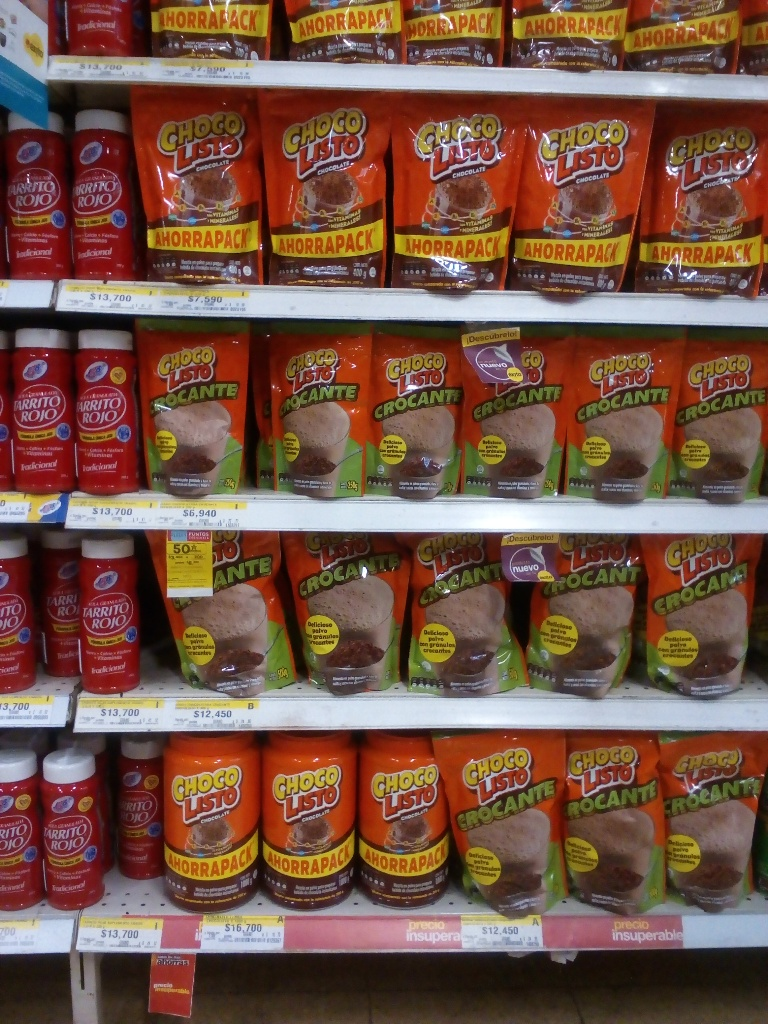COL0170102DYP25000: (124, 320, 246, 494)
COL0170102DYP50000: (151, 528, 305, 693)
COL0170103DYP40000: (136, 96, 264, 284)
COL0170103TRR00100: (162, 731, 260, 914)
